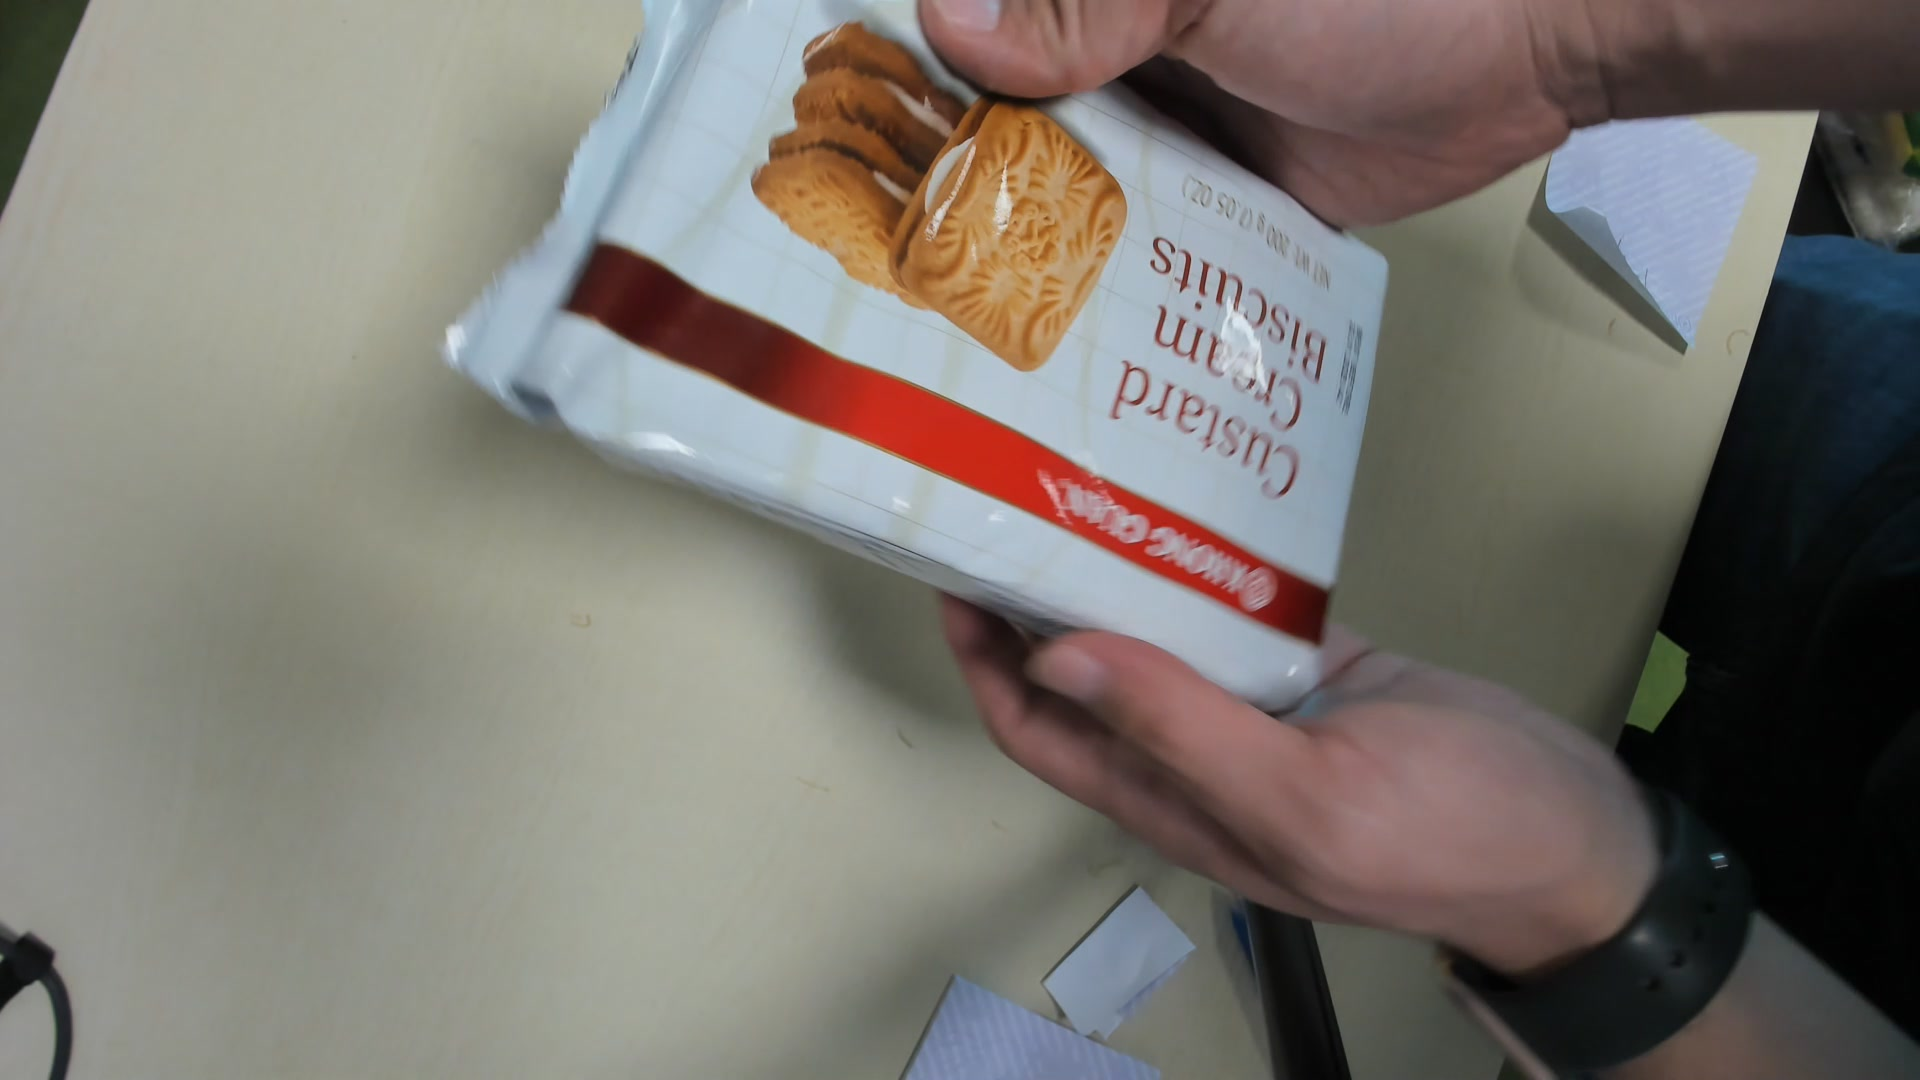BiscuitsCrackersCookies_200-299g_Halal_NonHealthy: (429, 3, 1396, 727)
